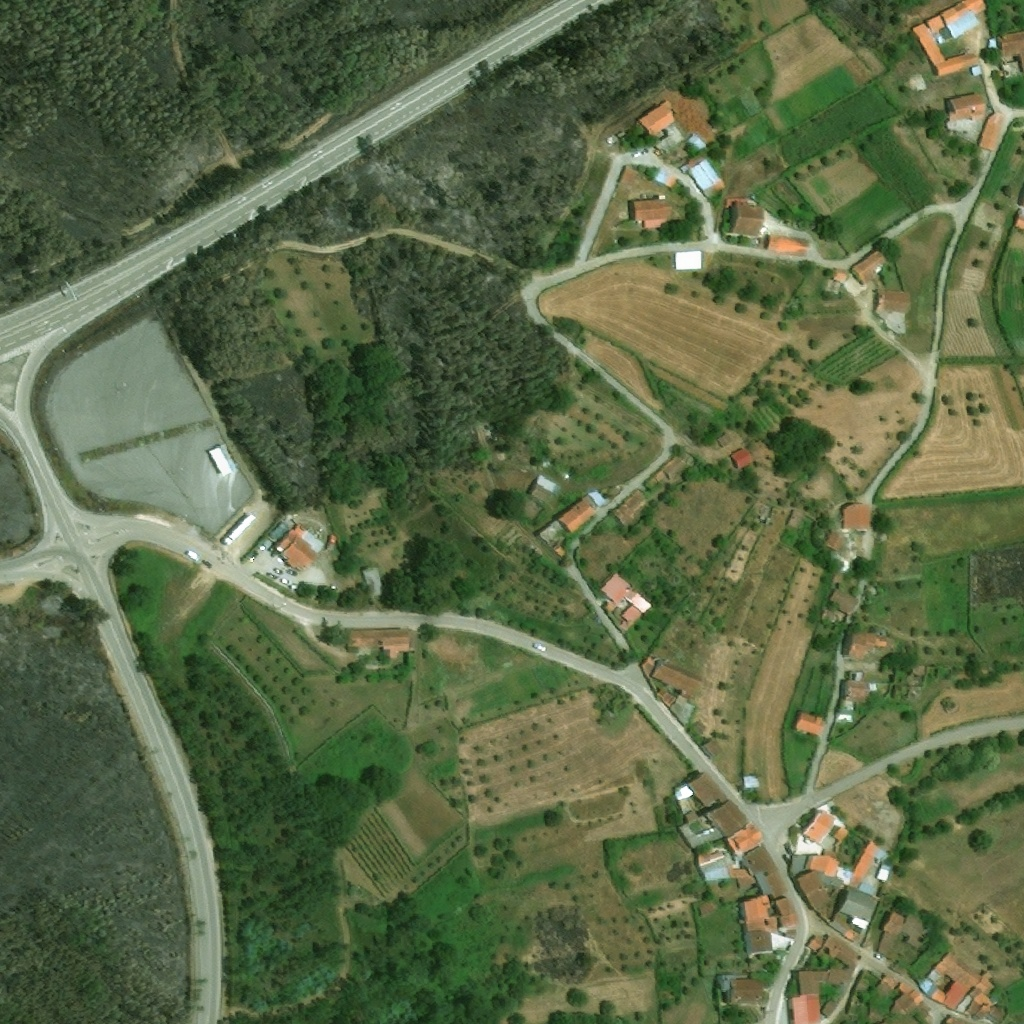0 no-damage: (788, 936, 861, 1023), (787, 840, 886, 901), (910, 0, 986, 77), (928, 952, 1004, 1022), (535, 488, 604, 543), (739, 895, 796, 957), (599, 570, 652, 623), (642, 656, 701, 699), (672, 772, 722, 821), (637, 100, 683, 152), (345, 629, 415, 662), (875, 910, 925, 956), (697, 851, 755, 890), (276, 524, 324, 571), (679, 153, 723, 199), (834, 887, 876, 932), (723, 193, 764, 237), (841, 967, 875, 1019), (890, 981, 930, 1023), (794, 871, 832, 912), (873, 288, 905, 335), (706, 800, 747, 835), (649, 452, 693, 484), (609, 491, 649, 526), (725, 822, 761, 860), (851, 248, 888, 284), (842, 671, 876, 710), (718, 974, 762, 1004), (842, 629, 887, 658), (628, 199, 671, 229), (820, 911, 859, 943), (678, 823, 724, 849), (801, 810, 835, 845), (946, 93, 984, 122), (998, 29, 1023, 72), (754, 866, 786, 898), (764, 233, 808, 256), (978, 113, 1003, 152), (530, 473, 561, 501), (744, 846, 774, 874), (828, 588, 859, 614), (840, 504, 869, 531), (207, 445, 231, 476), (792, 711, 822, 735), (361, 568, 382, 596), (674, 250, 701, 271), (874, 974, 897, 997), (652, 168, 677, 189), (655, 686, 676, 708), (618, 164, 638, 186), (824, 529, 844, 550), (686, 131, 707, 150), (730, 449, 751, 468), (786, 510, 804, 531), (701, 739, 721, 757), (820, 998, 838, 1017), (827, 268, 846, 284), (874, 865, 891, 882), (1000, 61, 1018, 77), (740, 775, 758, 790), (698, 900, 716, 915), (829, 826, 847, 841), (834, 710, 851, 723), (822, 607, 836, 622), (868, 1006, 882, 1020), (986, 38, 996, 49), (971, 66, 980, 76)
4 un-classified: (942, 1014, 969, 1023), (1013, 210, 1023, 232), (847, 547, 858, 561)
